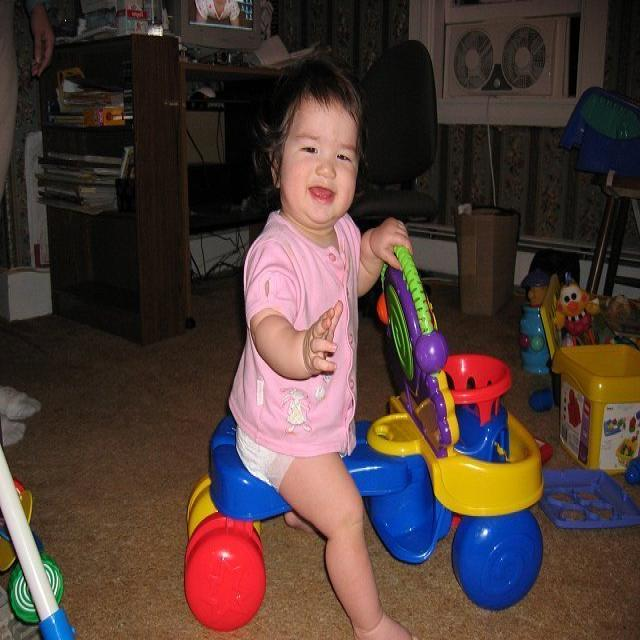Bicycle: (137, 340, 570, 640)
People: (265, 53, 366, 640), (0, 0, 46, 273)
Table: (26, 0, 293, 329)
chair: (357, 20, 473, 249)
